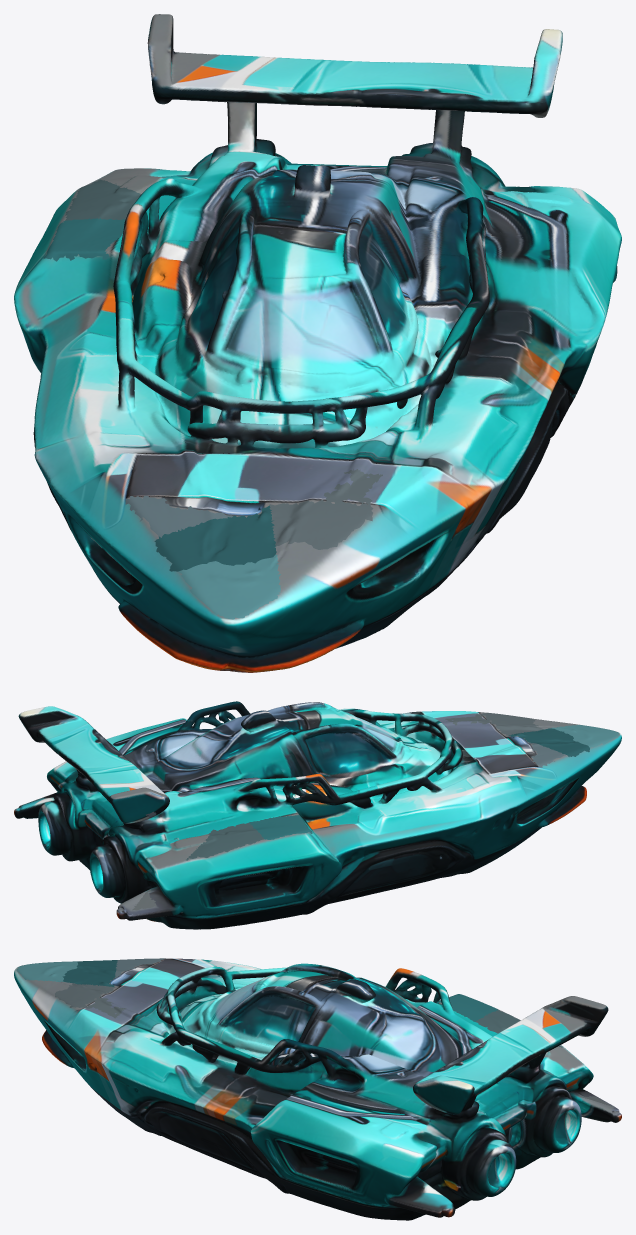
Rendered from car6_fixed.glb.
The picture shows the model from 3 angles, top to bottom: view 1: azimuth 30°, elevation 25°; view 2: azimuth 150°, elevation 25°; view 3: azimuth 270°, elevation 25°; orthographic projection. The views are drawn at different scales.
Parts seen in each view (by area): view 1: tripo_node_8e44fc5c-556b-4529-9eb5-4dec2ea4c247; view 2: tripo_node_8e44fc5c-556b-4529-9eb5-4dec2ea4c247; view 3: tripo_node_8e44fc5c-556b-4529-9eb5-4dec2ea4c247.
Boxes of the visible parts, x1=… form: tripo_node_8e44fc5c-556b-4529-9eb5-4dec2ea4c247: x1=14, y1=14, x2=621, y2=672; tripo_node_8e44fc5c-556b-4529-9eb5-4dec2ea4c247: x1=14, y1=701, x2=621, y2=929; tripo_node_8e44fc5c-556b-4529-9eb5-4dec2ea4c247: x1=14, y1=958, x2=621, y2=1220.
Bounding box in the file's own units: 0.8466 × 0.3231 × 1.
Materials: 1 (1 with a texture image).
